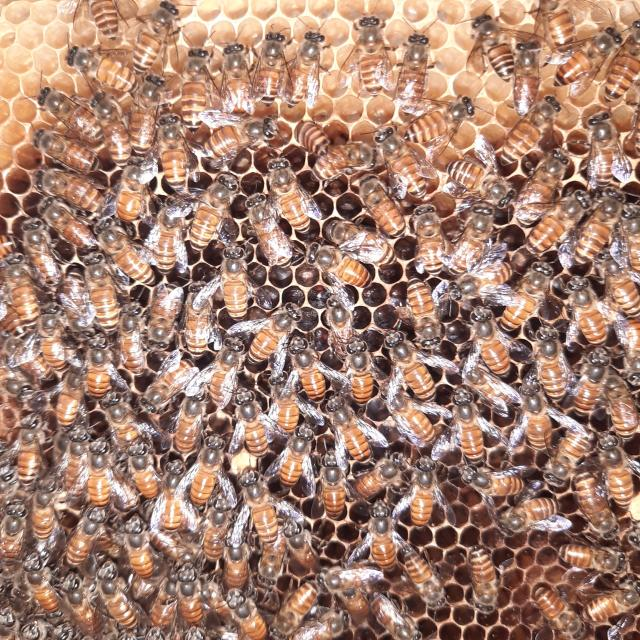honeybee: (438, 382, 517, 476), (342, 160, 414, 254), (442, 193, 520, 266), (243, 298, 309, 384), (440, 142, 523, 210), (377, 369, 443, 454), (376, 314, 441, 398), (563, 10, 623, 100), (391, 270, 461, 347), (180, 171, 244, 255), (91, 212, 152, 300), (578, 107, 631, 208), (262, 146, 320, 238), (462, 0, 524, 86), (493, 90, 561, 168), (403, 91, 482, 158), (30, 84, 103, 156), (341, 452, 430, 510), (343, 0, 392, 102), (522, 190, 597, 256), (376, 118, 434, 202), (544, 413, 605, 492), (83, 245, 136, 334), (507, 148, 574, 218), (272, 412, 329, 492), (567, 183, 626, 260), (514, 382, 570, 463), (507, 27, 559, 114), (562, 464, 629, 531), (303, 448, 356, 530), (27, 163, 107, 217), (146, 195, 198, 277), (97, 567, 155, 640), (246, 186, 292, 278), (596, 428, 640, 523), (504, 255, 559, 331), (176, 553, 224, 640), (226, 386, 278, 466), (548, 530, 640, 575), (26, 124, 102, 178), (392, 17, 435, 111), (20, 212, 63, 306), (558, 270, 610, 346), (299, 236, 375, 288), (464, 298, 512, 380), (129, 5, 186, 74), (228, 467, 281, 541), (36, 190, 94, 256), (396, 542, 452, 610), (90, 88, 133, 176), (64, 44, 138, 95), (300, 137, 377, 186), (60, 580, 122, 640), (195, 566, 245, 640), (214, 584, 280, 640), (144, 352, 203, 414), (369, 587, 438, 640), (449, 244, 512, 302), (281, 337, 334, 405), (321, 388, 369, 462), (206, 108, 278, 157), (596, 367, 640, 447), (460, 541, 506, 617), (496, 486, 564, 537), (206, 336, 254, 408), (126, 70, 163, 163), (608, 12, 640, 118), (280, 505, 327, 577), (571, 576, 640, 625), (528, 321, 574, 394), (178, 33, 213, 128), (52, 372, 100, 441), (97, 379, 145, 447), (364, 496, 401, 584), (110, 152, 156, 222), (181, 277, 223, 353), (58, 501, 107, 565), (142, 517, 202, 569), (529, 0, 587, 53), (21, 564, 73, 623), (570, 340, 611, 414), (537, 577, 585, 640), (254, 12, 286, 106), (464, 459, 532, 503), (220, 242, 253, 332), (220, 24, 252, 116), (196, 495, 240, 561), (598, 258, 640, 326), (340, 334, 379, 407), (116, 296, 150, 379), (296, 22, 327, 113), (56, 256, 93, 332), (24, 480, 67, 545), (34, 316, 76, 382), (147, 571, 187, 640), (83, 328, 119, 404), (321, 286, 357, 361), (409, 453, 443, 532), (252, 526, 286, 604), (127, 440, 170, 501), (178, 384, 216, 452), (61, 422, 92, 505), (192, 438, 230, 504), (152, 460, 189, 527), (146, 275, 184, 340), (268, 578, 320, 625), (160, 110, 189, 194), (16, 415, 51, 484), (86, 436, 117, 513), (284, 607, 347, 640), (338, 580, 376, 634), (82, 0, 130, 42), (0, 247, 28, 318), (320, 556, 385, 586), (118, 515, 151, 574), (0, 503, 27, 574), (286, 112, 332, 152), (0, 294, 35, 342), (620, 193, 640, 276), (14, 619, 59, 640), (0, 596, 20, 640), (0, 465, 14, 498)
